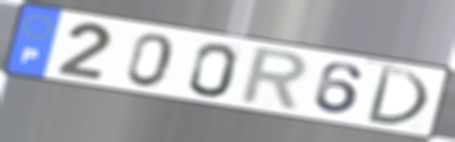0: (186, 41, 243, 99), (125, 32, 178, 88)
2: (54, 22, 117, 83)
6: (313, 61, 364, 116)
D: (362, 64, 431, 129)
R: (235, 45, 311, 114)
